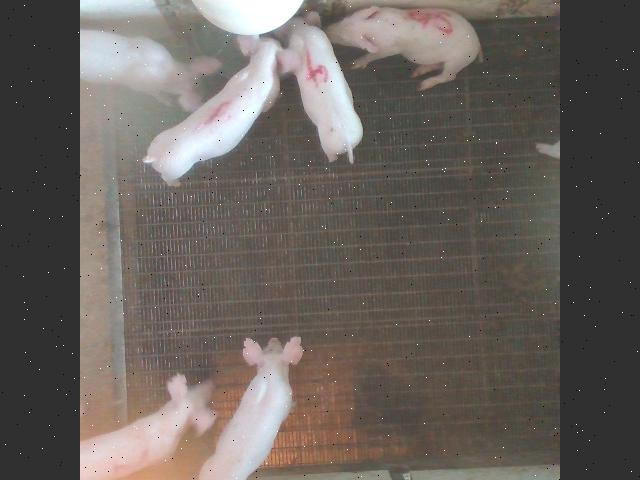pig-1: (144, 36, 300, 185)
pig-2: (82, 374, 216, 480)
pig-4: (288, 19, 362, 161)
pig-5: (326, 5, 481, 89)
